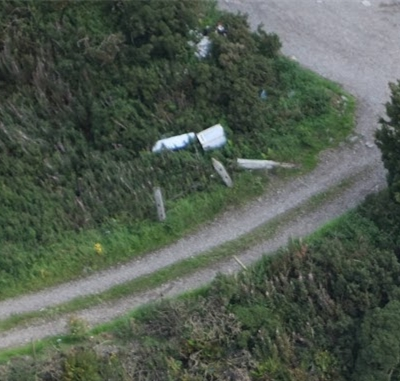white_in_green: (134, 81, 248, 184)
